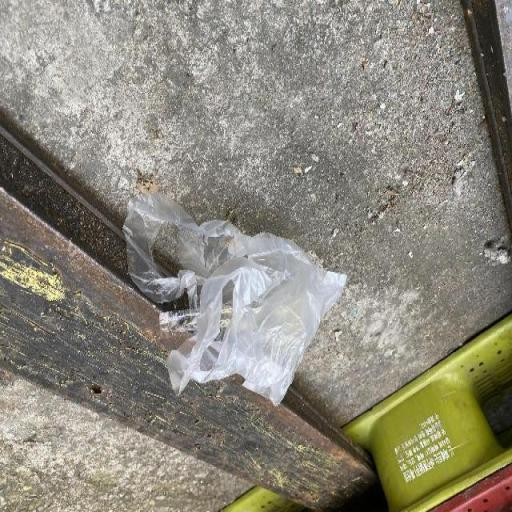plastic-bag: (122, 190, 349, 408)
